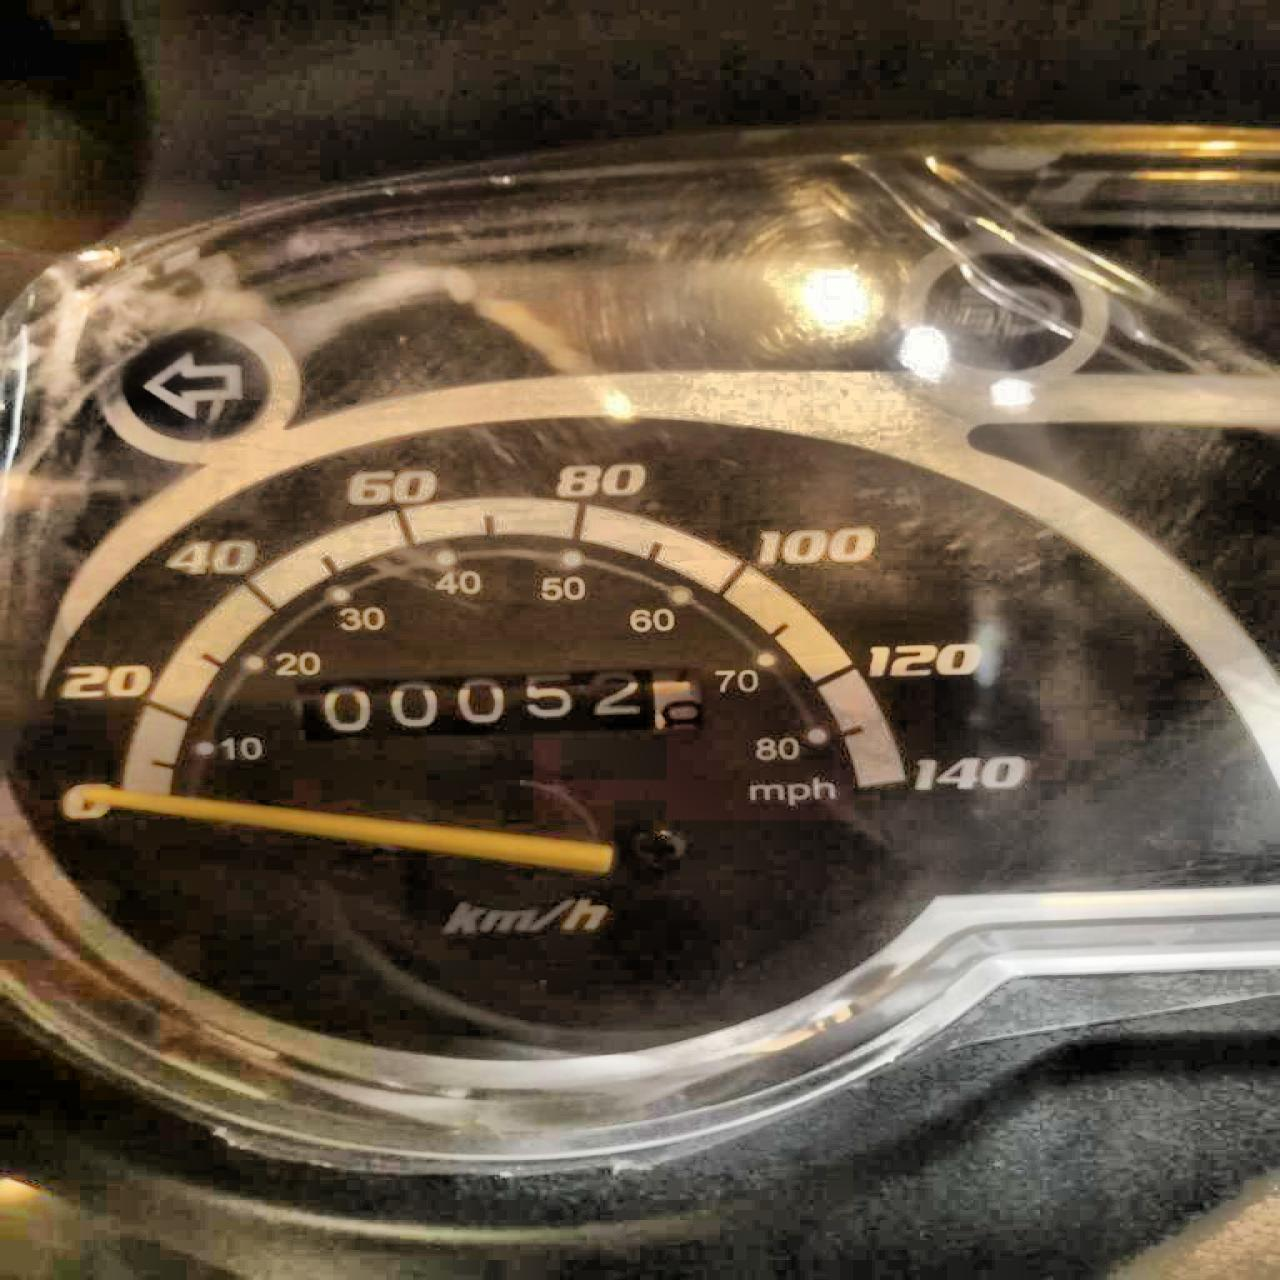0: (320, 683, 372, 731), (388, 680, 438, 726), (455, 676, 503, 722)
2: (590, 670, 639, 715)
5: (523, 672, 572, 717)
8: (656, 697, 703, 741)
odometer: (288, 662, 707, 747)
